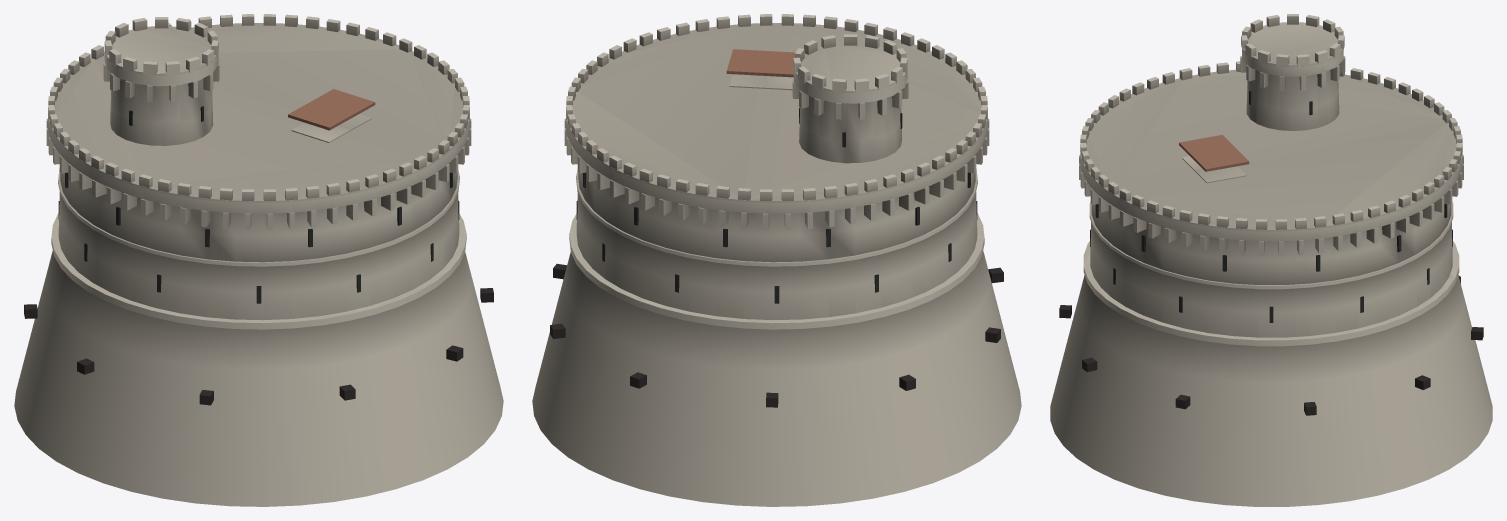
The model's file is seafort.glb.
The picture shows the model from 3 angles, left to right: view 1: azimuth 30°, elevation 25°; view 2: azimuth 150°, elevation 25°; view 3: azimuth 270°, elevation 25°; orthographic projection. The views are drawn at different scales.
Visible parts, largest first — view 1: seafort; view 2: seafort; view 3: seafort.
Part boxes in pixels (x1,y1,x2,y2): seafort: (14,14,503,506); seafort: (532,14,1021,506); seafort: (1050,14,1492,506).
Bounding box in the file's own units: 61.84 × 52.4 × 61.84.
